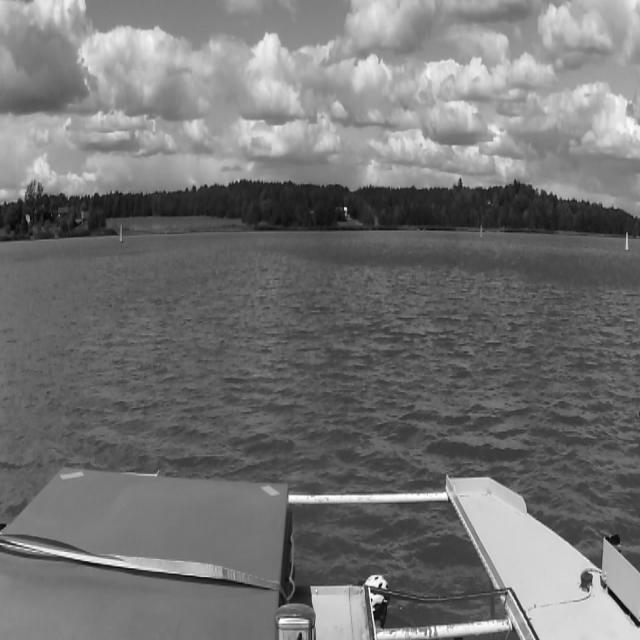buoy: (120, 224, 123, 242), (480, 225, 483, 239), (626, 231, 628, 250)
